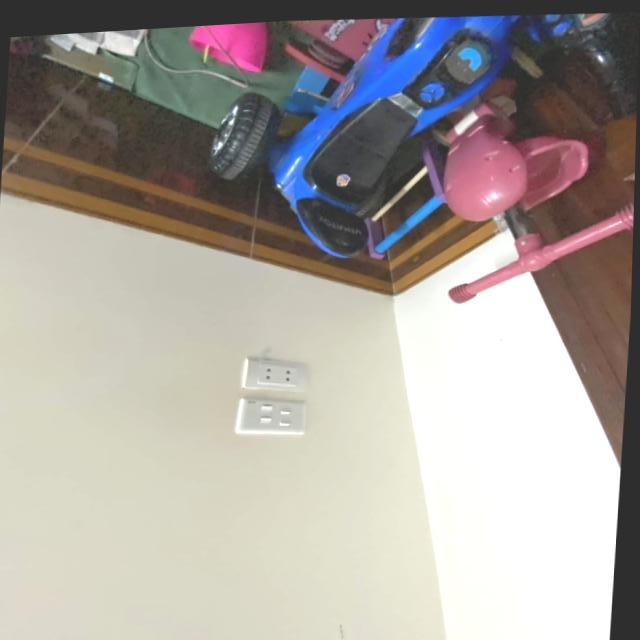outlet: (242, 352, 311, 395)
